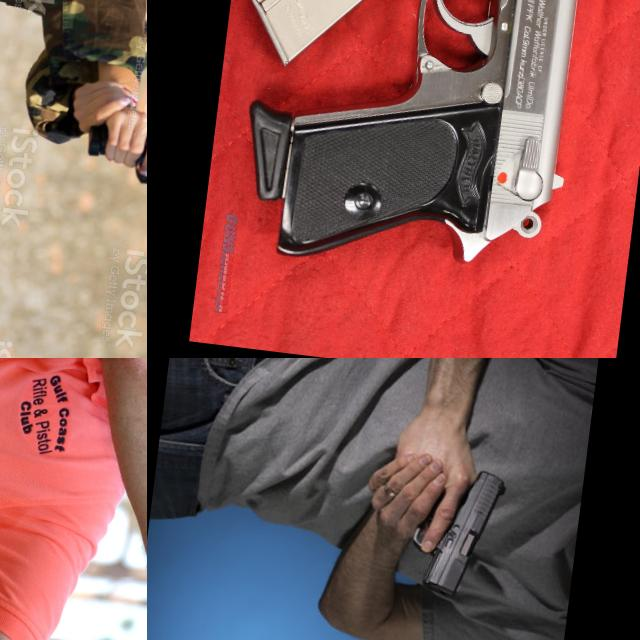handgun: (223, 0, 605, 294), (402, 461, 509, 608), (125, 123, 147, 227)
